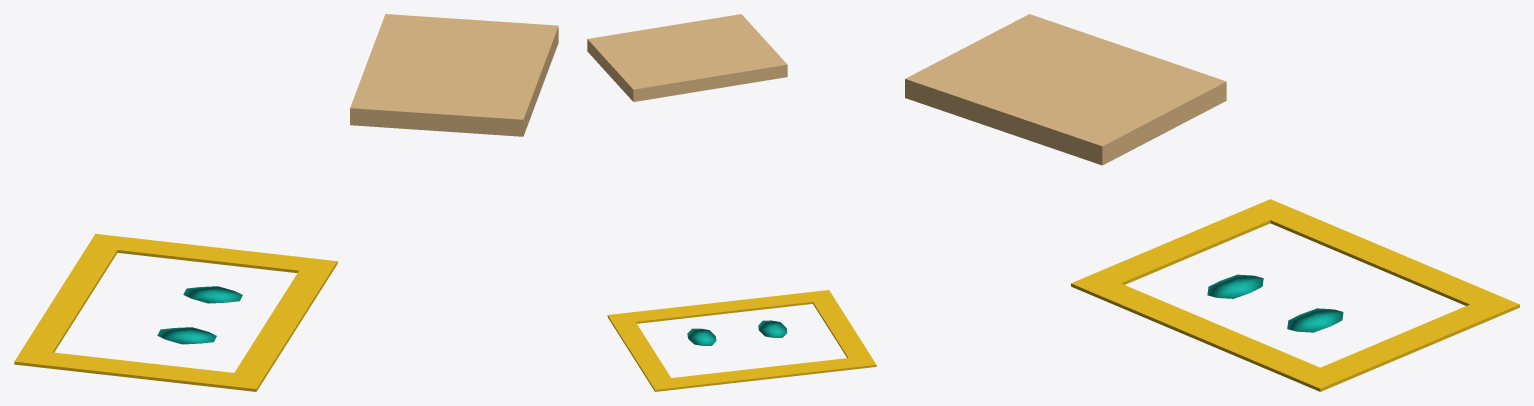
Rendered from station_processing_ausstattung_1_0.glb.
3 views of the same model, side by side, from view 1: azimuth 30°, elevation 25°; view 2: azimuth 150°, elevation 25°; view 3: azimuth 270°, elevation 25° (orthographic). The views are drawn at different scales.
Parts seen in each view (by area): view 1: station_processing_ausstattung_1_0; view 2: station_processing_ausstattung_1_0; view 3: station_processing_ausstattung_1_0.
Boxes of the visible parts, x1=… form: station_processing_ausstattung_1_0: x1=14, y1=14, x2=558, y2=391; station_processing_ausstattung_1_0: x1=587, y1=14, x2=876, y2=391; station_processing_ausstattung_1_0: x1=905, y1=14, x2=1519, y2=391.
Bounding box in the file's own units: 0.8655 × 0.491 × 0.8715.
